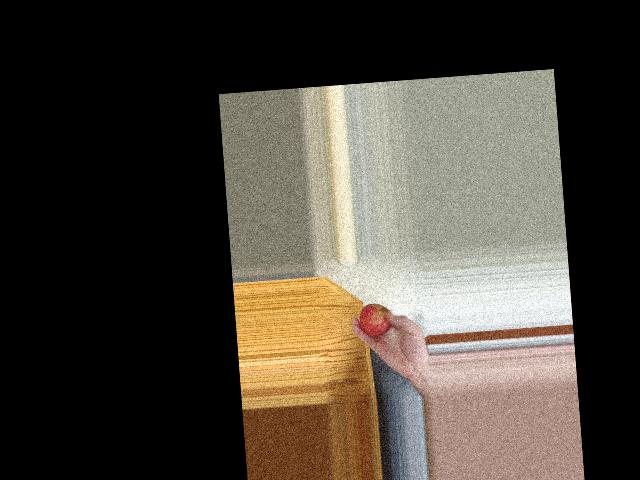apple: (359, 300, 394, 338)
